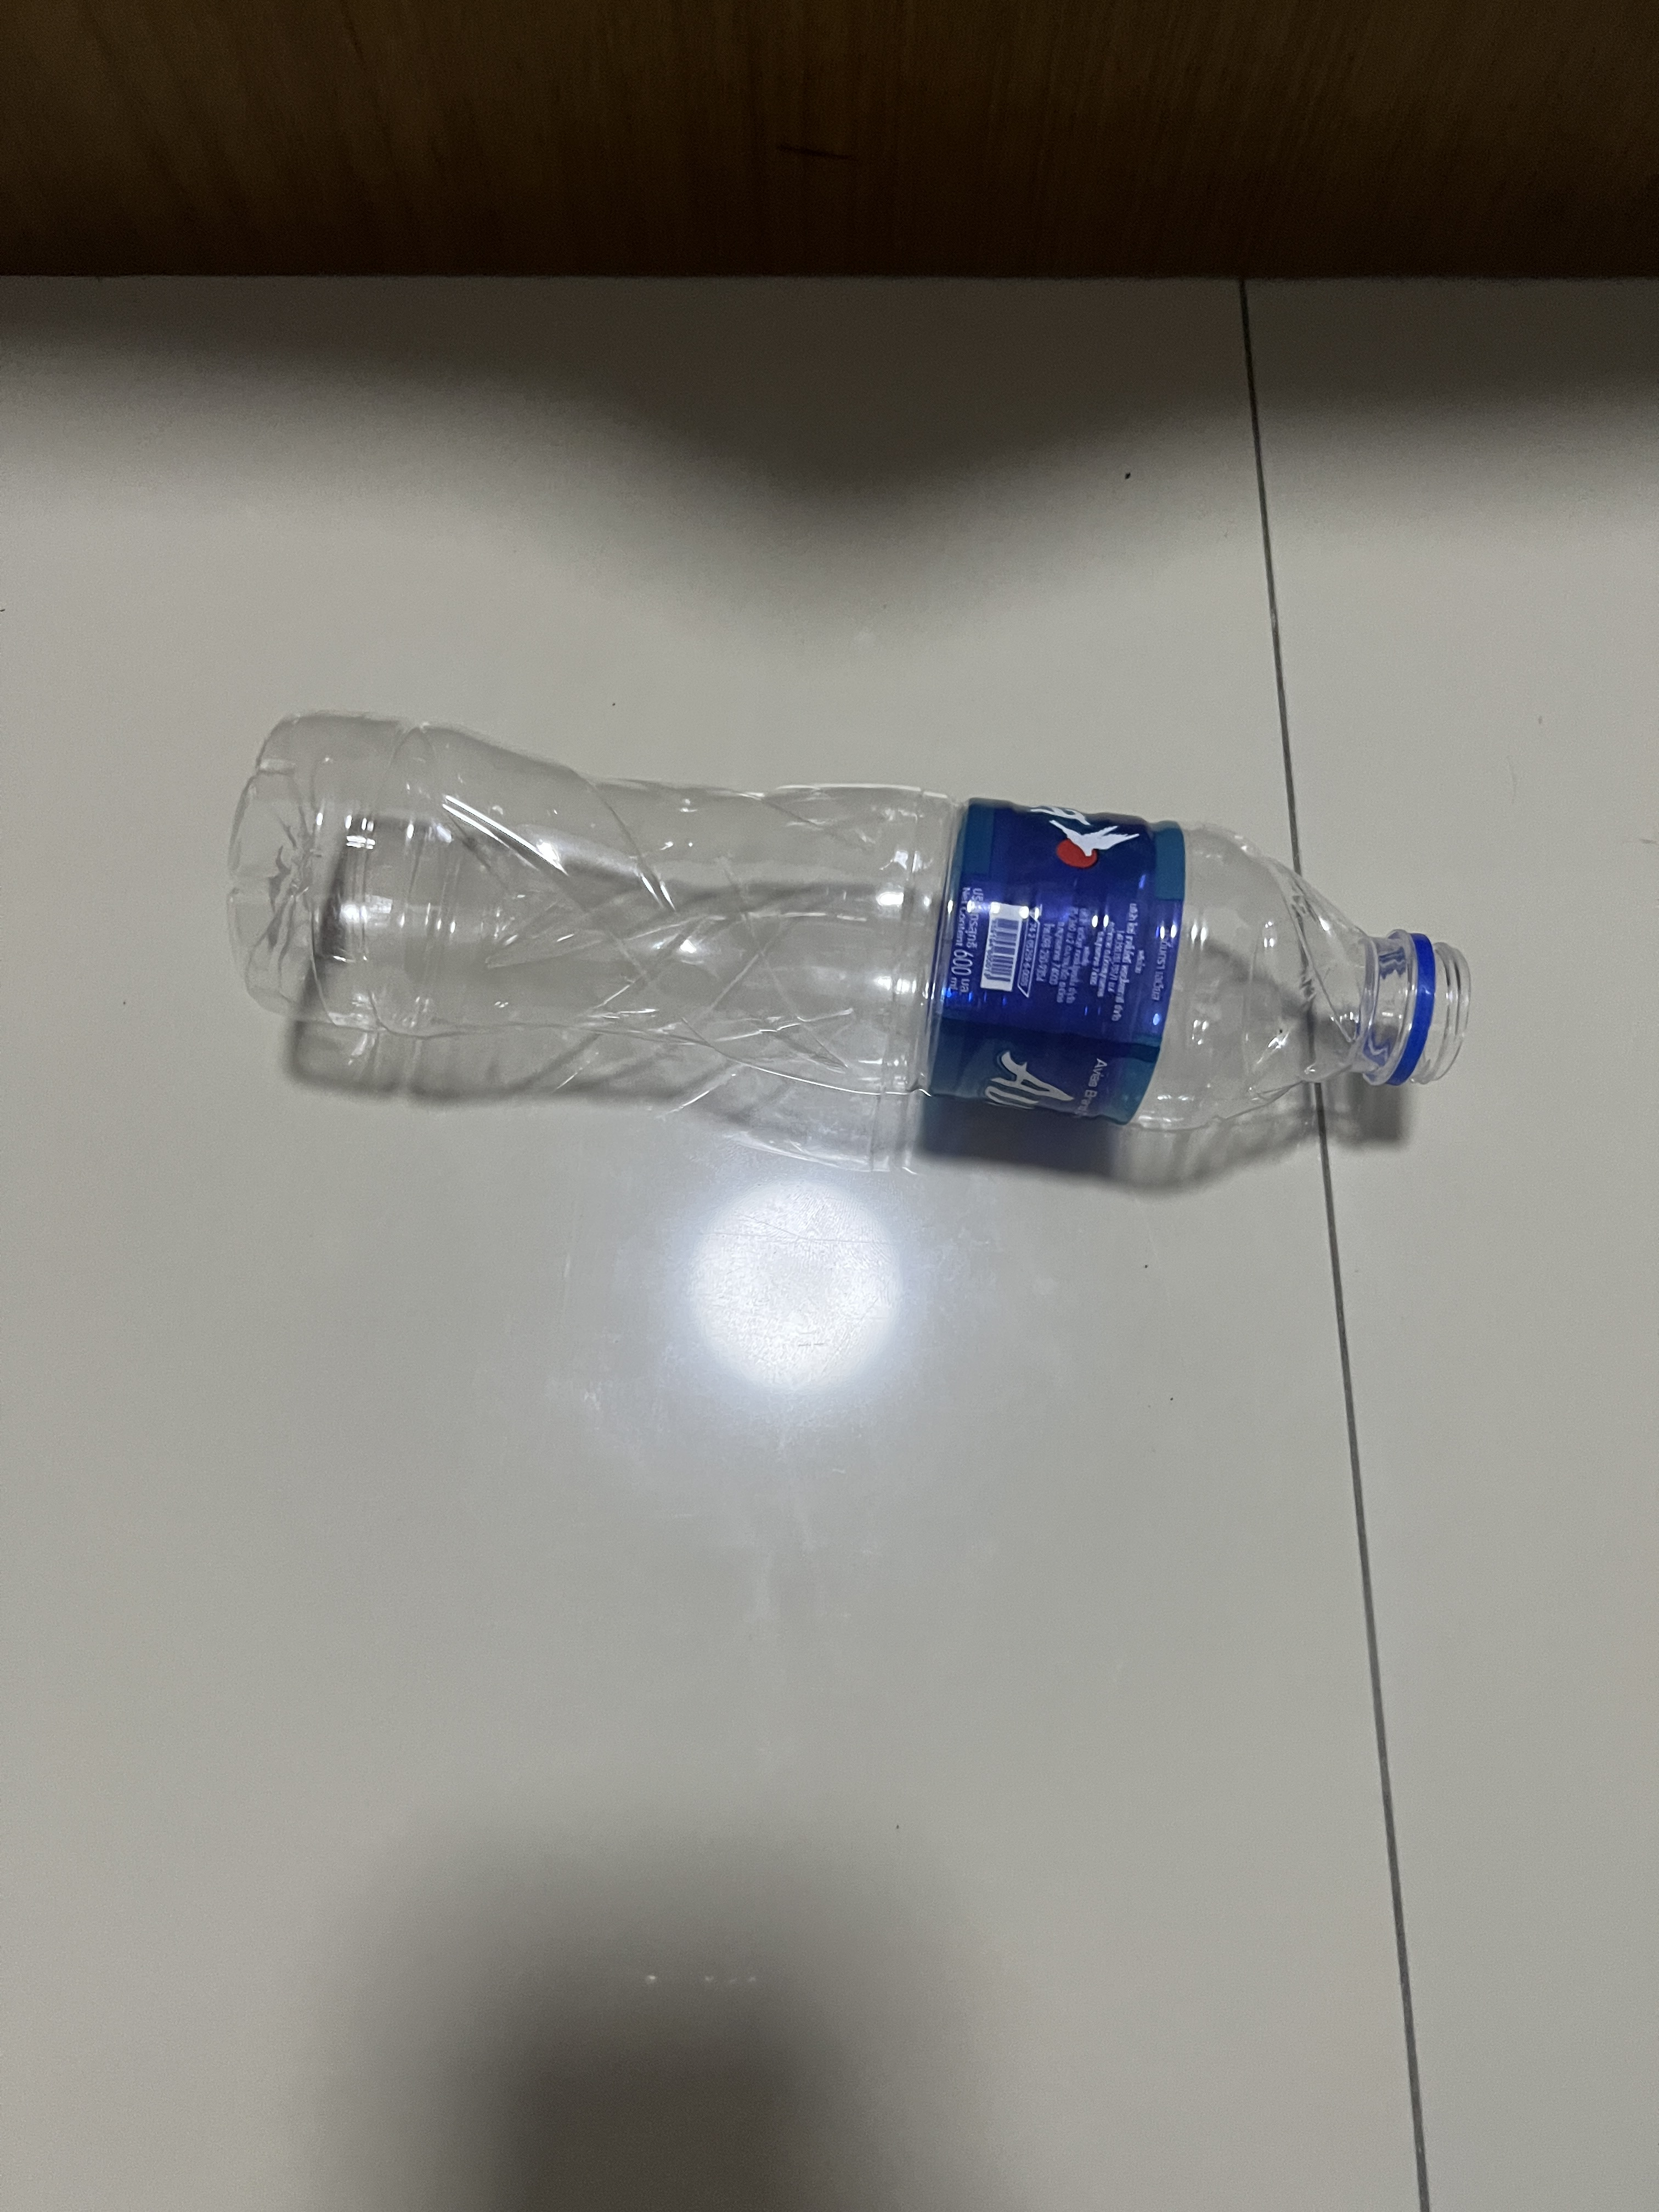plastic_bottle: (179, 644, 1525, 1301)
